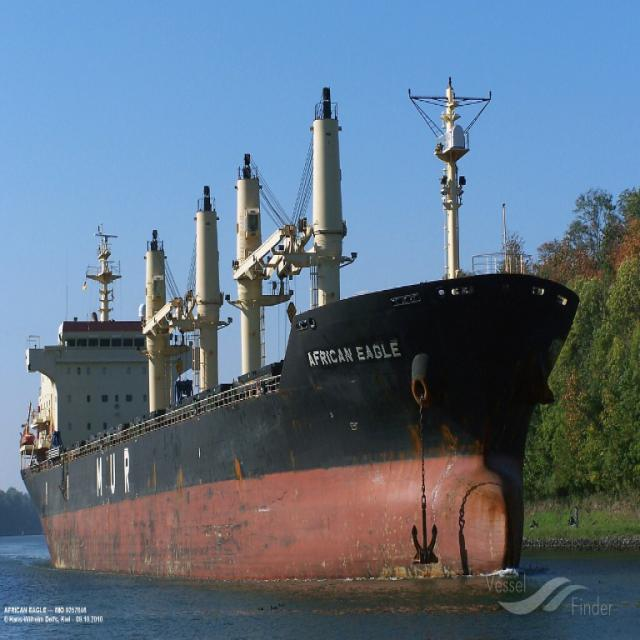OCR: (307, 336, 408, 370), (96, 448, 134, 500)
